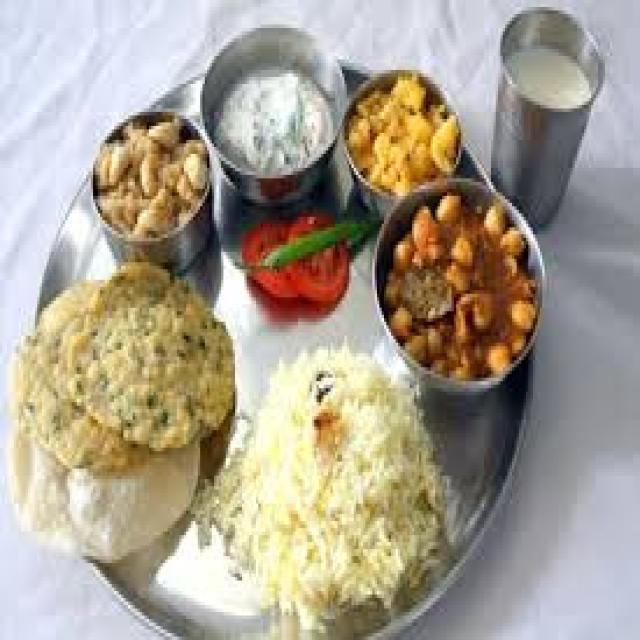curd: (498, 43, 600, 116)
papad: (18, 258, 227, 495)
raita: (206, 43, 343, 194)
rice: (209, 331, 446, 619), (33, 258, 235, 475), (202, 40, 344, 193), (342, 63, 451, 201)
sweet: (227, 194, 353, 318)
